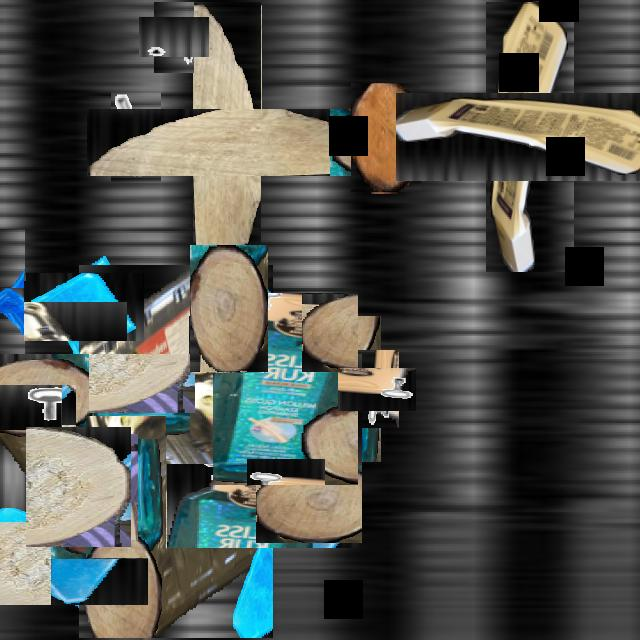glass: (16, 505, 132, 622), (86, 416, 166, 558), (37, 260, 131, 355), (0, 258, 54, 342)
metal: (111, 92, 161, 182), (3, 375, 67, 439), (347, 359, 408, 420), (146, 10, 202, 65)
plastic: (34, 310, 318, 593), (440, 48, 620, 226), (200, 305, 370, 474)
wood: (140, 55, 314, 229), (21, 430, 134, 544), (190, 245, 268, 374), (351, 84, 421, 194)
